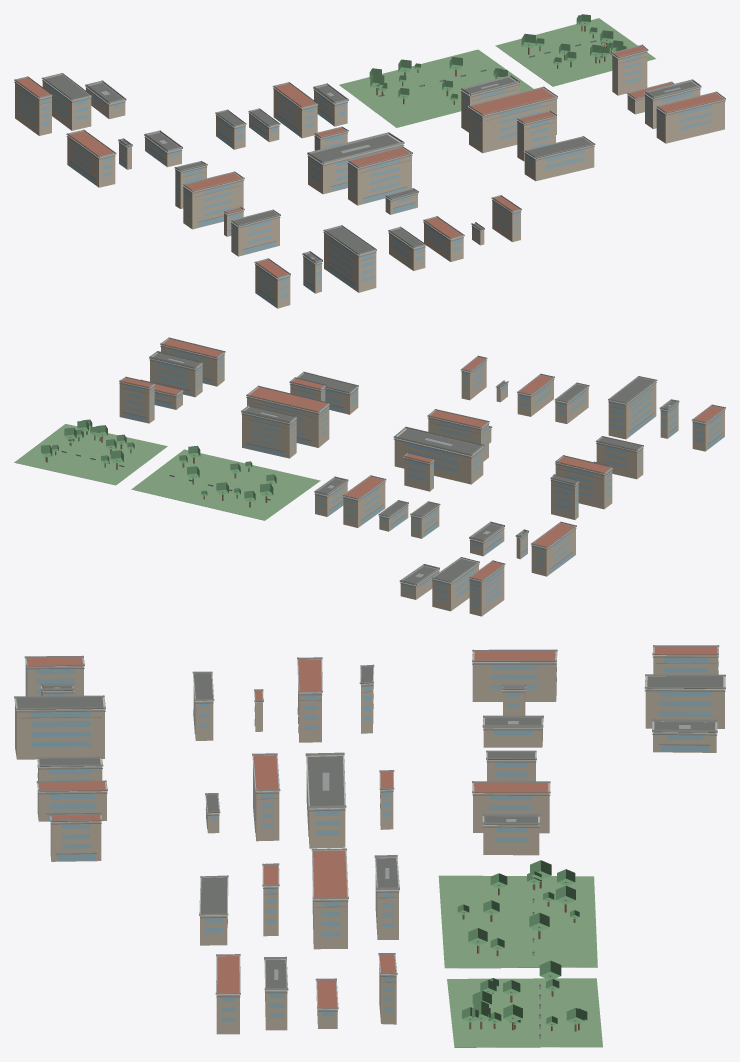
The model's file is tile-p001-p001.glb.
3 renders of one model, top to bottom at view 1: azimuth 30°, elevation 25°; view 2: azimuth 150°, elevation 25°; view 3: azimuth 270°, elevation 25°, orthographic. The views are drawn at different scales.
Visible parts, largest first — view 1: neighborhood-park-block-242-mesh-0, neighborhood-park-block-260-mesh-5, building-0951-mesh-147, building-0882-mesh-110, building-1022-mesh-178, building-0837-mesh-31, building-0835-mesh-21, neighborhood-park-block-260-mesh-8, building-0953-mesh-157, neighborhood-park-block-242-mesh-3, building-1019-mesh-162, building-0840-mesh-46 (+29 smaller); view 2: neighborhood-park-block-242-mesh-0, neighborhood-park-block-260-mesh-5, building-0881-mesh-104, building-0950-mesh-141, building-0951-mesh-147, building-0837-mesh-31, neighborhood-park-block-260-mesh-8, building-0835-mesh-21, neighborhood-park-block-242-mesh-3, building-0839-mesh-41, building-0840-mesh-46, building-1019-mesh-162 (+25 smaller); view 3: neighborhood-park-block-242-mesh-0, neighborhood-park-block-260-mesh-5, building-0835-mesh-21, building-0840-mesh-46, neighborhood-park-block-242-mesh-3, neighborhood-park-block-260-mesh-8, building-0844-mesh-68, building-0886-mesh-130, building-0881-mesh-107, building-0951-mesh-150, building-0879-mesh-94, building-0887-mesh-135 (+29 smaller).
Part boxes in pixels (bbox=[...]): neighborhood-park-block-242-mesh-0: bbox=[339, 49, 533, 127]; neighborhood-park-block-260-mesh-5: bbox=[495, 18, 655, 86]; building-0951-mesh-147: bbox=[469, 88, 556, 153]; building-0882-mesh-110: bbox=[348, 154, 411, 205]; building-1022-mesh-178: bbox=[656, 100, 724, 143]; building-0837-mesh-31: bbox=[183, 179, 243, 229]; building-0835-mesh-21: bbox=[324, 232, 376, 292]; neighborhood-park-block-260-mesh-8: bbox=[521, 14, 626, 64]; building-0953-mesh-157: bbox=[524, 145, 594, 181]; neighborhood-park-block-242-mesh-3: bbox=[369, 57, 507, 101]; building-1019-mesh-162: bbox=[612, 51, 647, 95]; building-0840-mesh-46: bbox=[67, 136, 115, 187]; neighborhood-park-block-242-mesh-0: bbox=[131, 449, 320, 520]; neighborhood-park-block-260-mesh-5: bbox=[14, 424, 167, 485]; building-0881-mesh-104: bbox=[394, 429, 483, 484]; building-0950-mesh-141: bbox=[242, 408, 296, 458]; building-0951-mesh-147: bbox=[247, 388, 329, 447]; building-0837-mesh-31: bbox=[555, 463, 612, 509]; neighborhood-park-block-260-mesh-8: bbox=[41, 419, 134, 463]; building-0835-mesh-21: bbox=[608, 382, 656, 439]; neighborhood-park-block-242-mesh-3: bbox=[179, 445, 276, 501]; building-0839-mesh-41: bbox=[596, 442, 643, 479]; building-0840-mesh-46: bbox=[531, 527, 575, 576]; building-1019-mesh-162: bbox=[119, 382, 154, 423]; neighborhood-park-block-242-mesh-0: bbox=[438, 875, 597, 968]; neighborhood-park-block-260-mesh-5: bbox=[447, 978, 602, 1047]; building-0835-mesh-21: bbox=[15, 698, 104, 759]; building-0840-mesh-46: bbox=[472, 652, 556, 701]; neighborhood-park-block-242-mesh-3: bbox=[457, 860, 579, 950]; neighborhood-park-block-260-mesh-8: bbox=[462, 960, 587, 1026]; building-0844-mesh-68: bbox=[645, 676, 724, 728]; building-0886-mesh-130: bbox=[473, 783, 549, 833]; building-0881-mesh-107: bbox=[307, 756, 344, 805]; building-0951-mesh-150: bbox=[313, 850, 347, 897]; building-0879-mesh-94: bbox=[50, 821, 101, 861]; building-0887-mesh-135: bbox=[483, 817, 539, 855].
Size of the model in its own units: 258 by 17.63 by 218.
